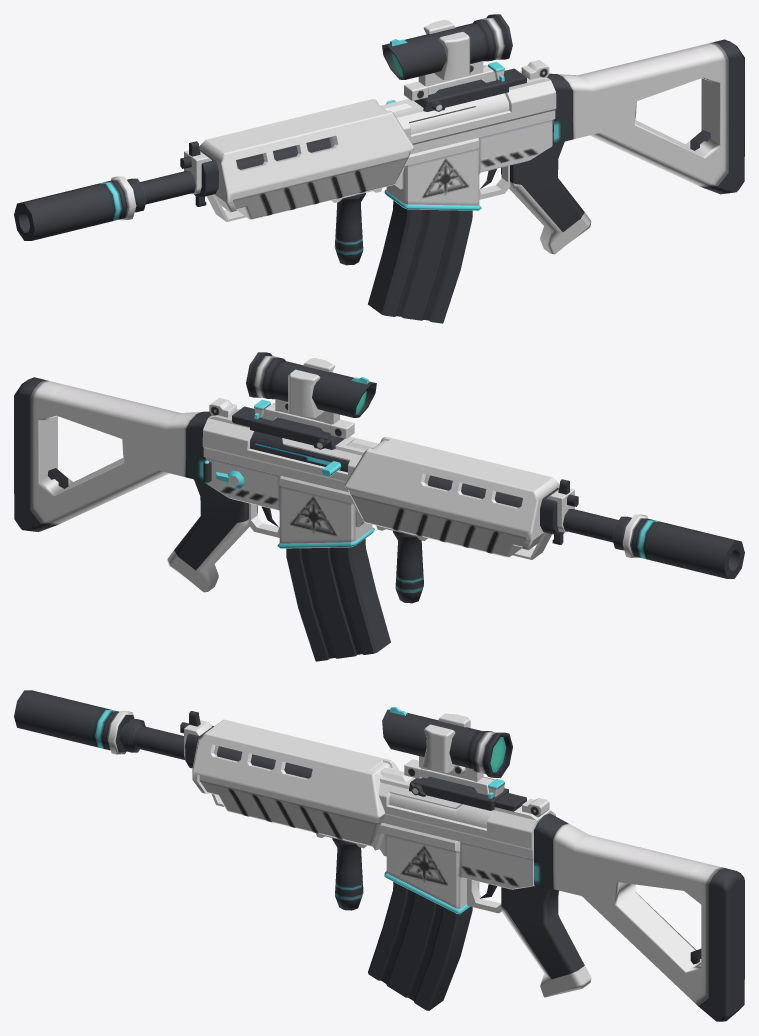
Rendered from Shiroko_Original_Weapon.obj.
3 renders of one model, top to bottom at view 1: azimuth 30°, elevation 25°; view 2: azimuth 150°, elevation 25°; view 3: azimuth 330°, elevation 25°, orthographic.
Parts seen in each view (by area): view 1: Shiroko_Original_Weapon; view 2: Shiroko_Original_Weapon; view 3: Shiroko_Original_Weapon.
Part boxes in pixels (bbox=[...]): Shiroko_Original_Weapon: bbox=[14, 14, 744, 323]; Shiroko_Original_Weapon: bbox=[14, 352, 744, 661]; Shiroko_Original_Weapon: bbox=[14, 690, 744, 1021].
Size of the model in its own units: 0.5707 by 0.2205 by 0.0545.
